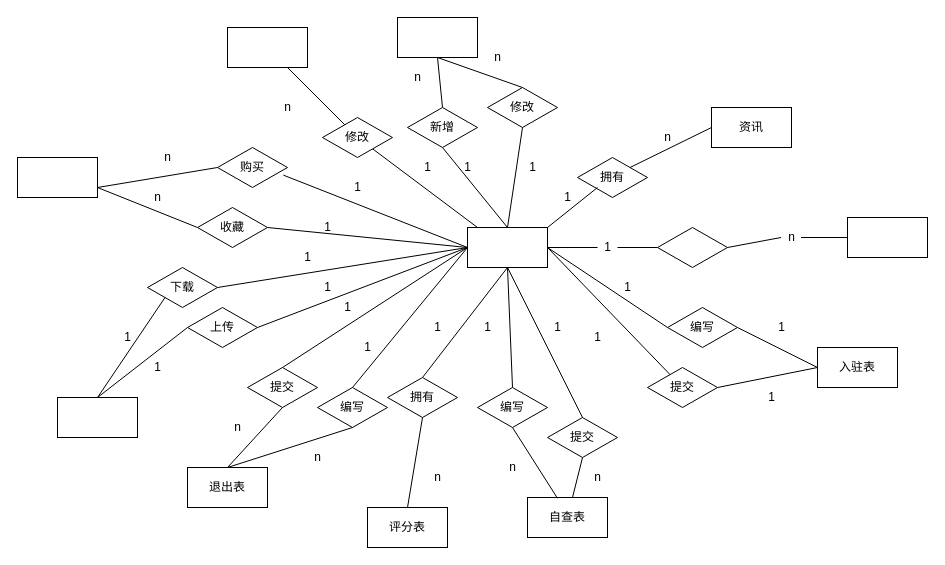
This 945x565 diagram has some shape labels left out. The centre of each missing label's shape, as x and y in pixels:
商品: (57,177)
地址: (437,37)
学生: (507,247)
报名: (692,247)
文件: (97,417)
订单: (267,47)
赛事: (887,237)
